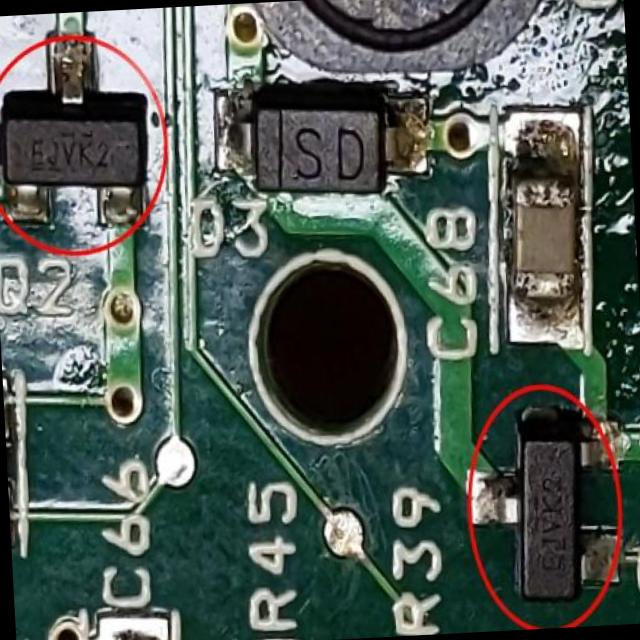capacitor: (499, 159, 585, 323)
diode: (235, 92, 400, 202)
transistor: (0, 35, 154, 244), (474, 403, 612, 611)
